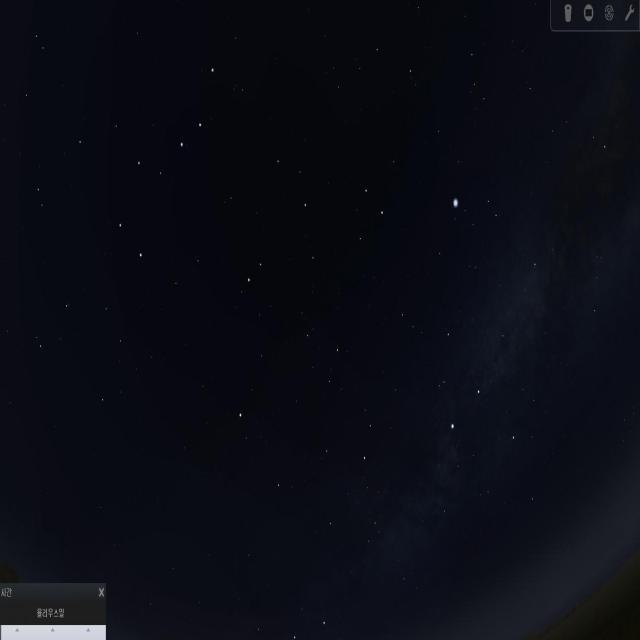cygnus: (440, 237, 548, 450)
lyra: (446, 177, 501, 236)
ursa_major: (110, 51, 224, 256)
